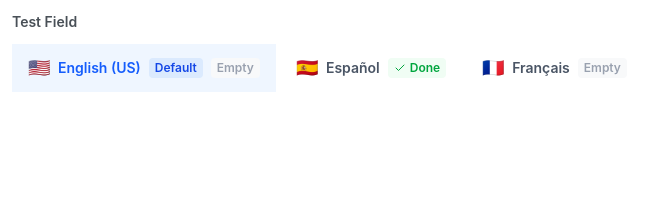
Test case: TranslatableInput Component › Copy from Default Functionality › should disable copy button when default language is empty
Switch to French tab
Click the button "🇫🇷 Français Empty" at {"x": 555, "y": 68}, box [466,44,643,92]
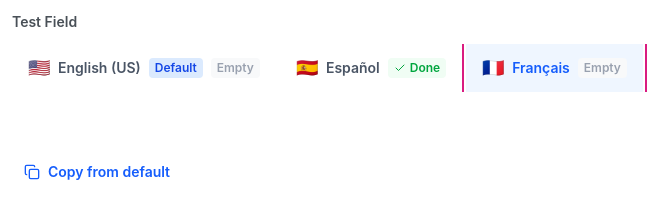
Check: the button "Copy from default" is disabled, box [12,156,182,188]
